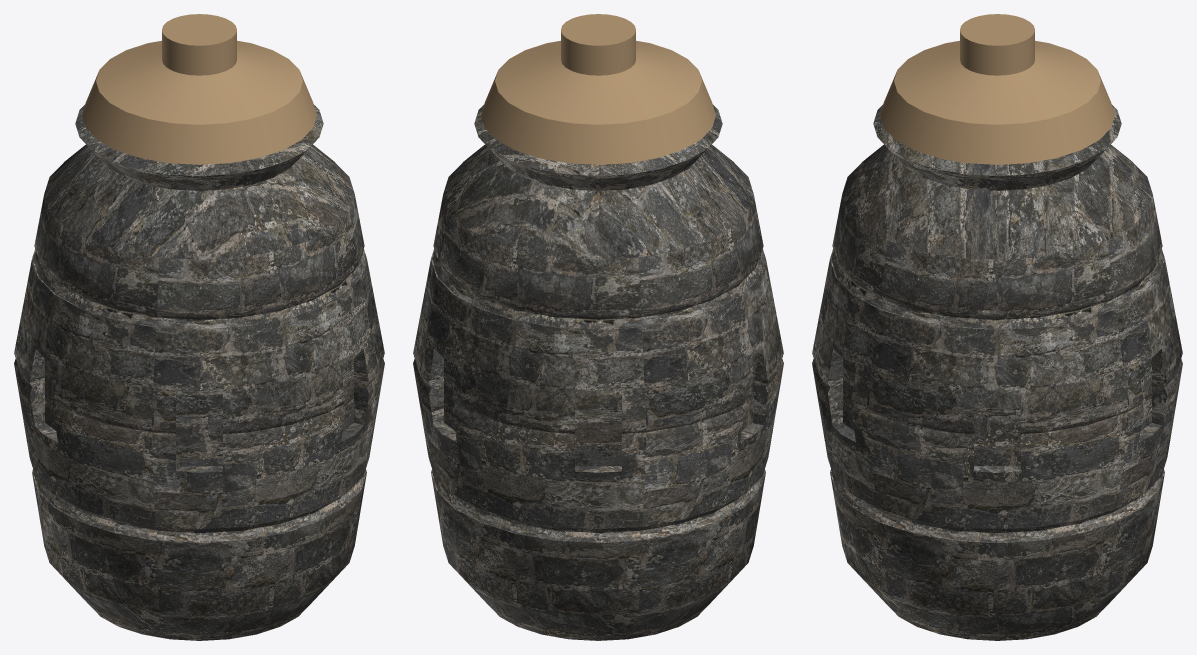
Rendered from ritual-vessel-v01.glb.
The picture shows the model from 3 angles, left to right: view 1: azimuth 30°, elevation 25°; view 2: azimuth 150°, elevation 25°; view 3: azimuth 270°, elevation 25°; orthographic projection.
Visible parts, largest first — view 1: ritual-vessel; view 2: ritual-vessel; view 3: ritual-vessel.
Boxes of the visible parts, x1,y1,x2,y2 form: ritual-vessel: (14,14,384,640); ritual-vessel: (413,14,783,640); ritual-vessel: (812,14,1182,640).
Bounding box in the file's own units: 0.7751 × 1.32 × 0.7883.
Materials: 2 (1 with a texture image).
